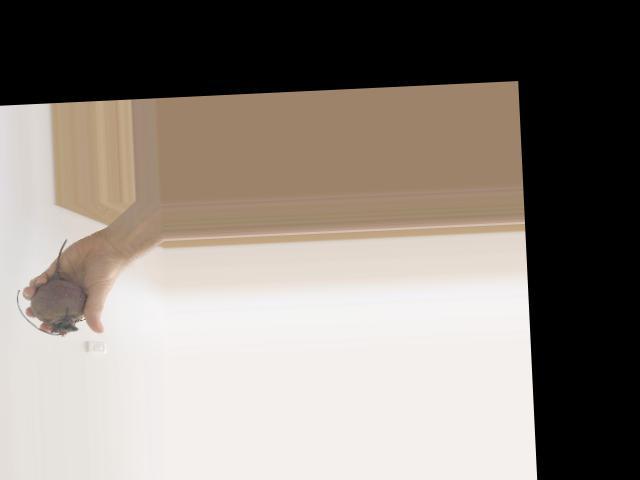beet: (13, 238, 86, 338)
